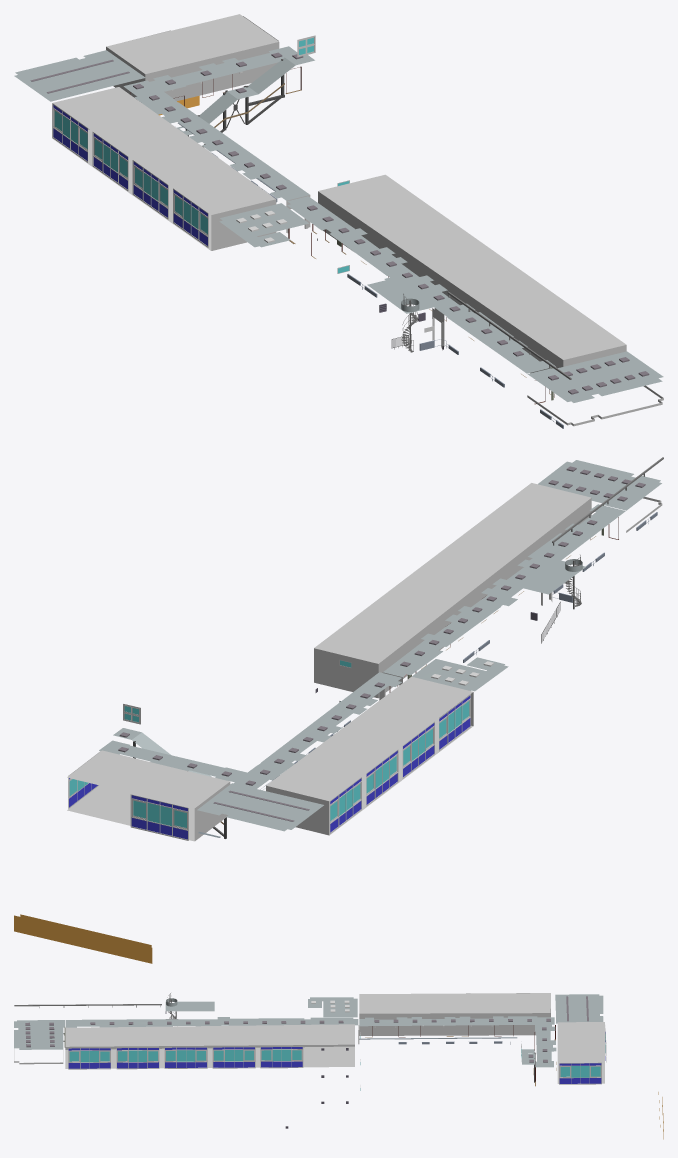
3 views of the same model, one above another, from view 1: azimuth 30°, elevation 25°; view 2: azimuth 150°, elevation 25°; view 3: azimuth 270°, elevation 25° (orthographic). The views are drawn at different scales.
Parts seen in each view (by area): view 1: stena.590, stena.589, stena.591, stena.467, stena.466, stena.601, stena.372, stena.344, stena.371, stena.129, stena.119, stena.318 (+5 smaller); view 2: stena.590, stena.589, stena.591, stena.466, stena.467, stena.372, stena.601, stena.001, stena.111, stena.344, stena.318, stena.129 (+3 smaller); view 3: stena.590, stena.589, stena.467, stena.466, stena.591, stena.601, stena.372, stena.024, stena.214, stena.032, stena.034, stena.050 (+7 smaller).
Part boxes in pixels (bbox=[...]): stena.590: bbox=[318, 174, 626, 373]; stena.589: bbox=[52, 87, 276, 250]; stena.591: bbox=[106, 14, 279, 101]; stena.467: bbox=[123, 46, 309, 200]; stena.466: bbox=[287, 196, 555, 373]; stena.601: bbox=[527, 351, 663, 402]; stena.372: bbox=[14, 50, 145, 101]; stena.344: bbox=[219, 203, 308, 247]; stena.371: bbox=[176, 55, 314, 135]; stena.129: bbox=[132, 160, 168, 219]; stena.119: bbox=[92, 132, 128, 190]; stena.318: bbox=[367, 277, 438, 313]; stena.590: bbox=[314, 483, 591, 698]; stena.589: bbox=[266, 676, 473, 835]; stena.591: bbox=[67, 750, 230, 841]; stena.466: bbox=[383, 504, 625, 676]; stena.467: bbox=[99, 672, 401, 788]; stena.372: bbox=[197, 783, 323, 831]; stena.601: bbox=[538, 460, 661, 510]; stena.001: bbox=[14, 914, 152, 963]; stena.111: bbox=[130, 794, 188, 840]; stena.344: bbox=[412, 657, 508, 691]; stena.318: bbox=[518, 559, 586, 594]; stena.129: bbox=[402, 721, 434, 778]; stena.590: bbox=[65, 1024, 354, 1068]; stena.589: bbox=[359, 993, 550, 1035]; stena.467: bbox=[359, 1016, 556, 1067]; stena.466: bbox=[66, 1017, 358, 1027]; stena.591: bbox=[557, 1022, 604, 1083]; stena.601: bbox=[14, 1020, 65, 1049]; stena.372: bbox=[555, 994, 603, 1023]; stena.024: bbox=[260, 1046, 303, 1068]; stena.214: bbox=[116, 1047, 159, 1069]; stena.032: bbox=[212, 1046, 255, 1068]; stena.034: bbox=[164, 1047, 207, 1068]; stena.050: bbox=[68, 1047, 110, 1069].
Size of the model in its own units: 2132 by 1356 by 8098.
